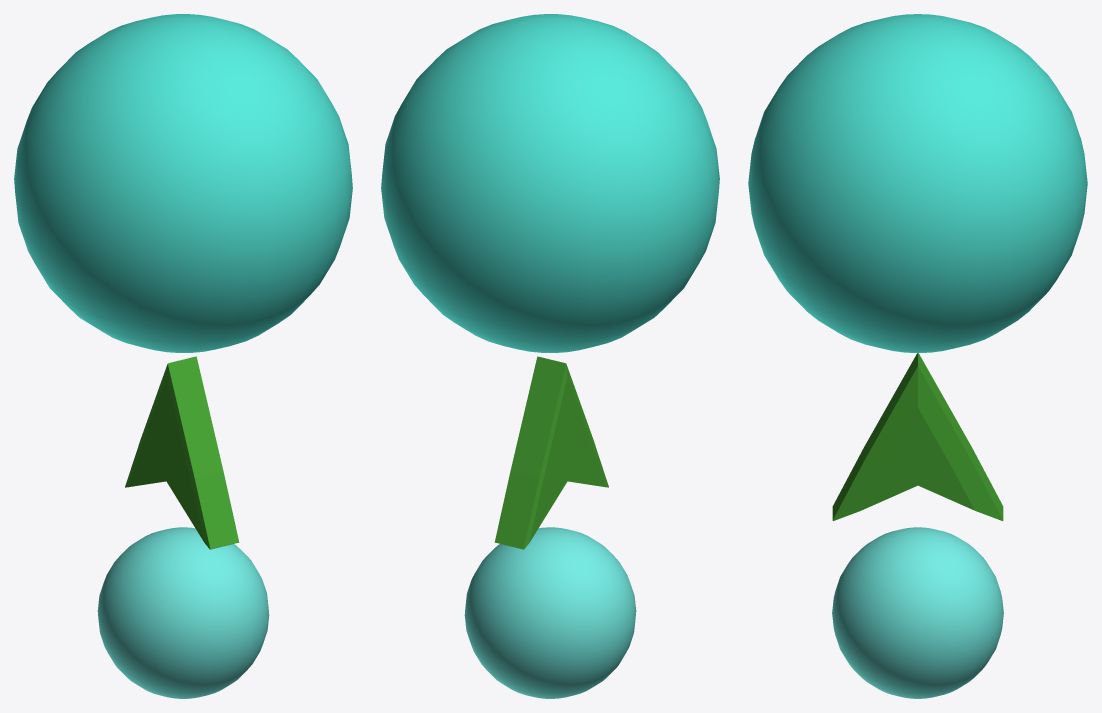
The model's file is bigBubble.fbx.
The picture shows the model from 3 angles, left to right: view 1: azimuth 30°, elevation 25°; view 2: azimuth 150°, elevation 25°; view 3: azimuth 270°, elevation 25°; orthographic projection.
Visible parts, largest first — view 1: BigBubble; view 2: BigBubble; view 3: BigBubble.
Part boxes in pixels (x1,y1,x2,y2): BigBubble: (14,14,352,698); BigBubble: (381,14,719,698); BigBubble: (748,14,1087,698).
Size of the model in its own units: 395 by 849 by 395.
